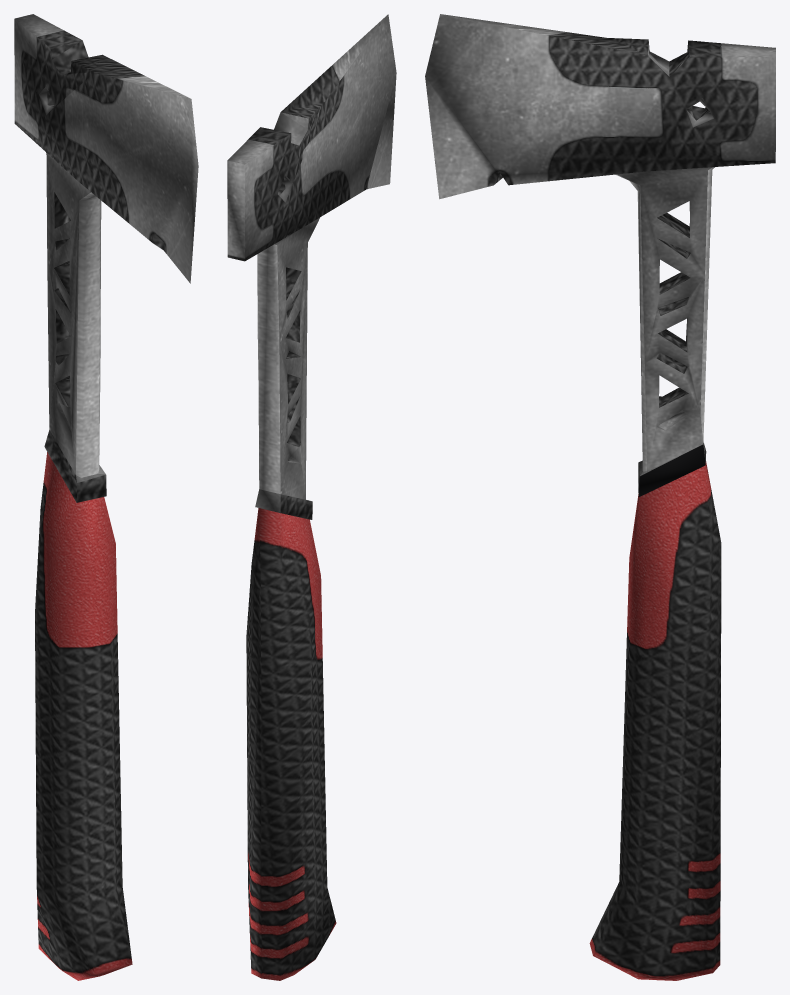
Rendered from 1Handed_FireAxe.fbx.
The picture shows the model from 3 angles, left to right: view 1: azimuth 30°, elevation 25°; view 2: azimuth 150°, elevation 25°; view 3: azimuth 270°, elevation 25°; orthographic projection. The views are drawn at different scales.
Parts seen in each view (by area): view 1: constrain_lowpoly.001; view 2: constrain_lowpoly.001; view 3: constrain_lowpoly.001.
Boxes of the visible parts, x1,y1,x2,y2 form: constrain_lowpoly.001: [14, 14, 198, 980]; constrain_lowpoly.001: [227, 14, 396, 980]; constrain_lowpoly.001: [425, 14, 775, 980].
Bounding box in the file's own units: 0.0195 × 0.2552 × 0.0845.
